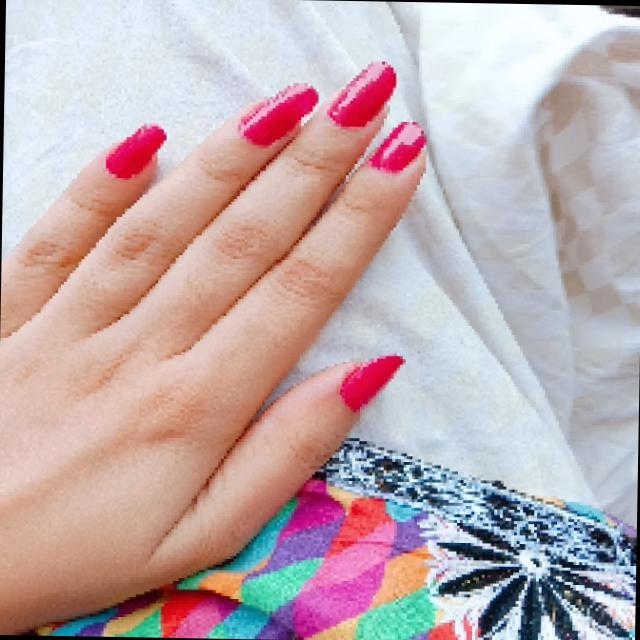Nail: (236, 83, 320, 148), (326, 60, 398, 129), (339, 353, 406, 411), (104, 123, 167, 178), (367, 121, 426, 172)
